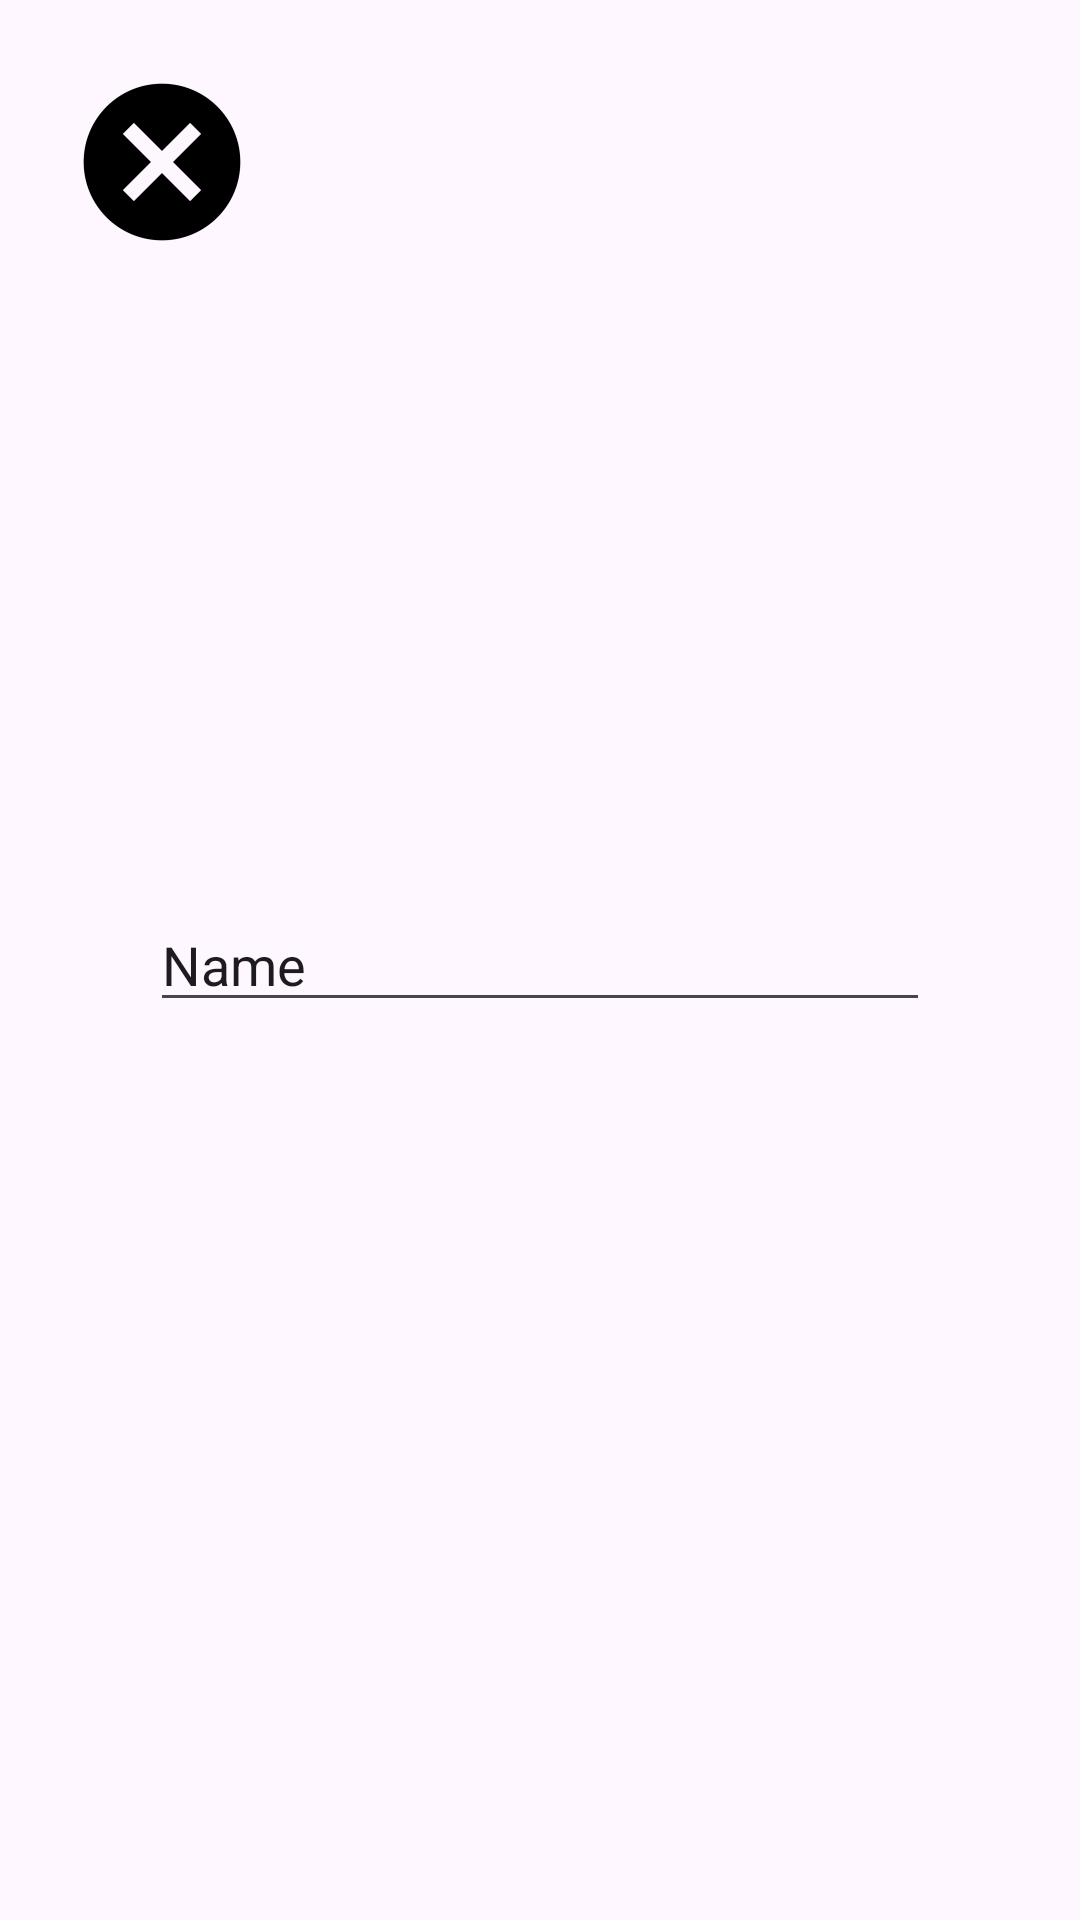

Icons on this 1080x1920 Android screen, each with the point to tap as [x,y]:
cancel: [162,162]
